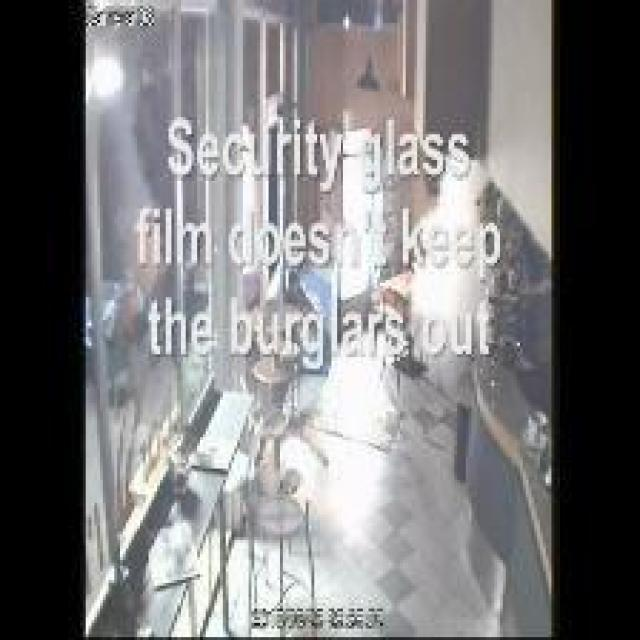fire: (400, 150, 494, 376)
